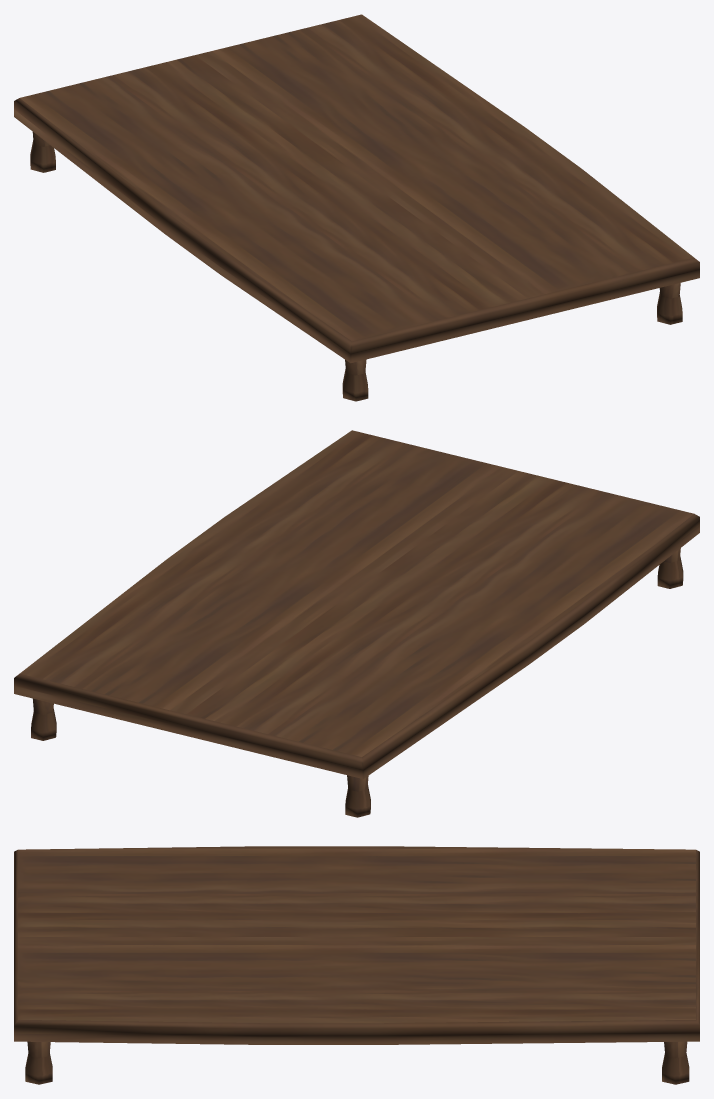
The model's file is Table_Small.fbx.
3 renders of one model, top to bottom at view 1: azimuth 30°, elevation 25°; view 2: azimuth 150°, elevation 25°; view 3: azimuth 270°, elevation 25°, orthographic.
Visible parts, largest first — view 1: Table_Small1; view 2: Table_Small1; view 3: Table_Small1.
Part boxes in pixels (x1,y1,x2,y2): Table_Small1: (14, 14, 699, 401); Table_Small1: (14, 430, 699, 817); Table_Small1: (14, 846, 699, 1084).
Bounding box in the file's own units: 190 × 32.38 × 305.
